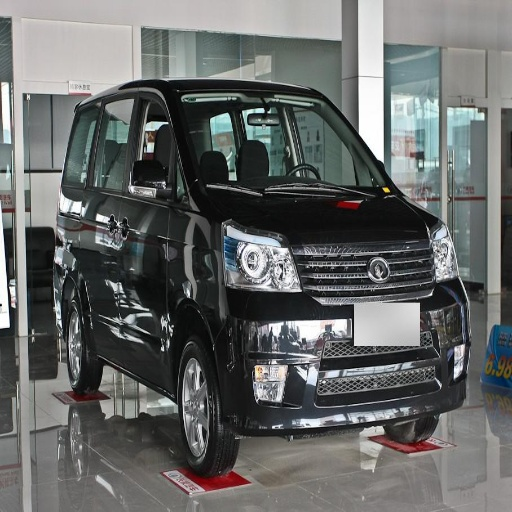front_bumper: (214, 246, 470, 432)
front_right_door: (112, 92, 180, 315)
front_right_light: (225, 222, 300, 292)
